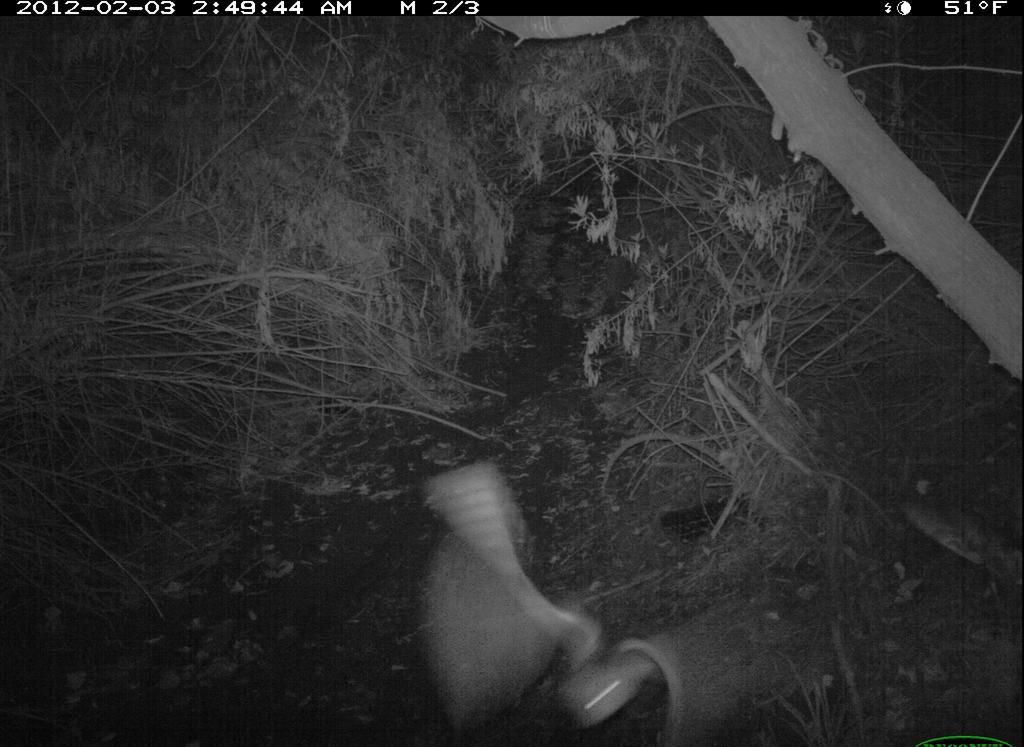bird: (409, 421, 738, 740)
